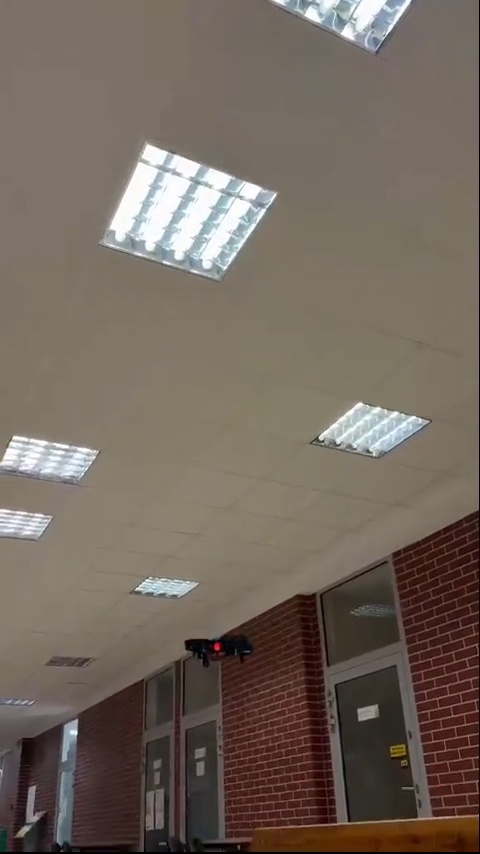drone: (182, 632, 255, 667)
